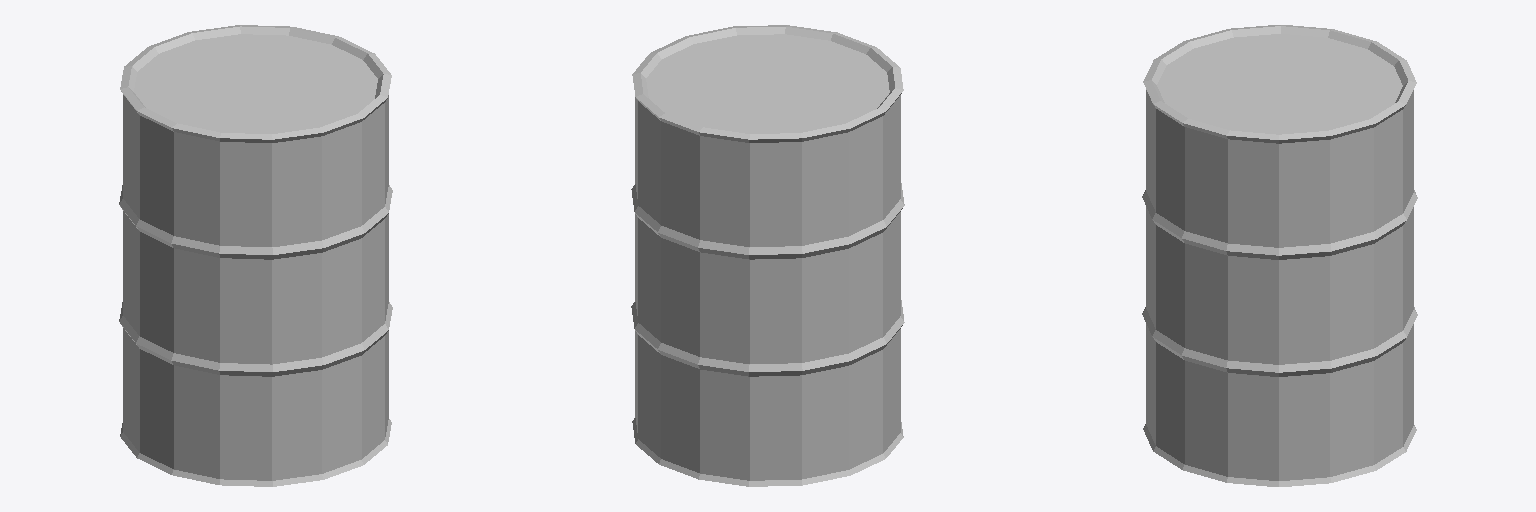
The model's file is Barrel.obj.
3 renders of one model, left to right at view 1: azimuth 30°, elevation 25°; view 2: azimuth 150°, elevation 25°; view 3: azimuth 270°, elevation 25°, orthographic.
Visible parts, largest first — view 1: Cylinder.003; view 2: Cylinder.003; view 3: Cylinder.003.
Part boxes in pixels (x1,y1,x2,y2): Cylinder.003: (119,25,392,486); Cylinder.003: (631,25,904,486); Cylinder.003: (1142,25,1417,486).
Bounding box in the file's own units: 0.491 × 0.6897 × 0.491.